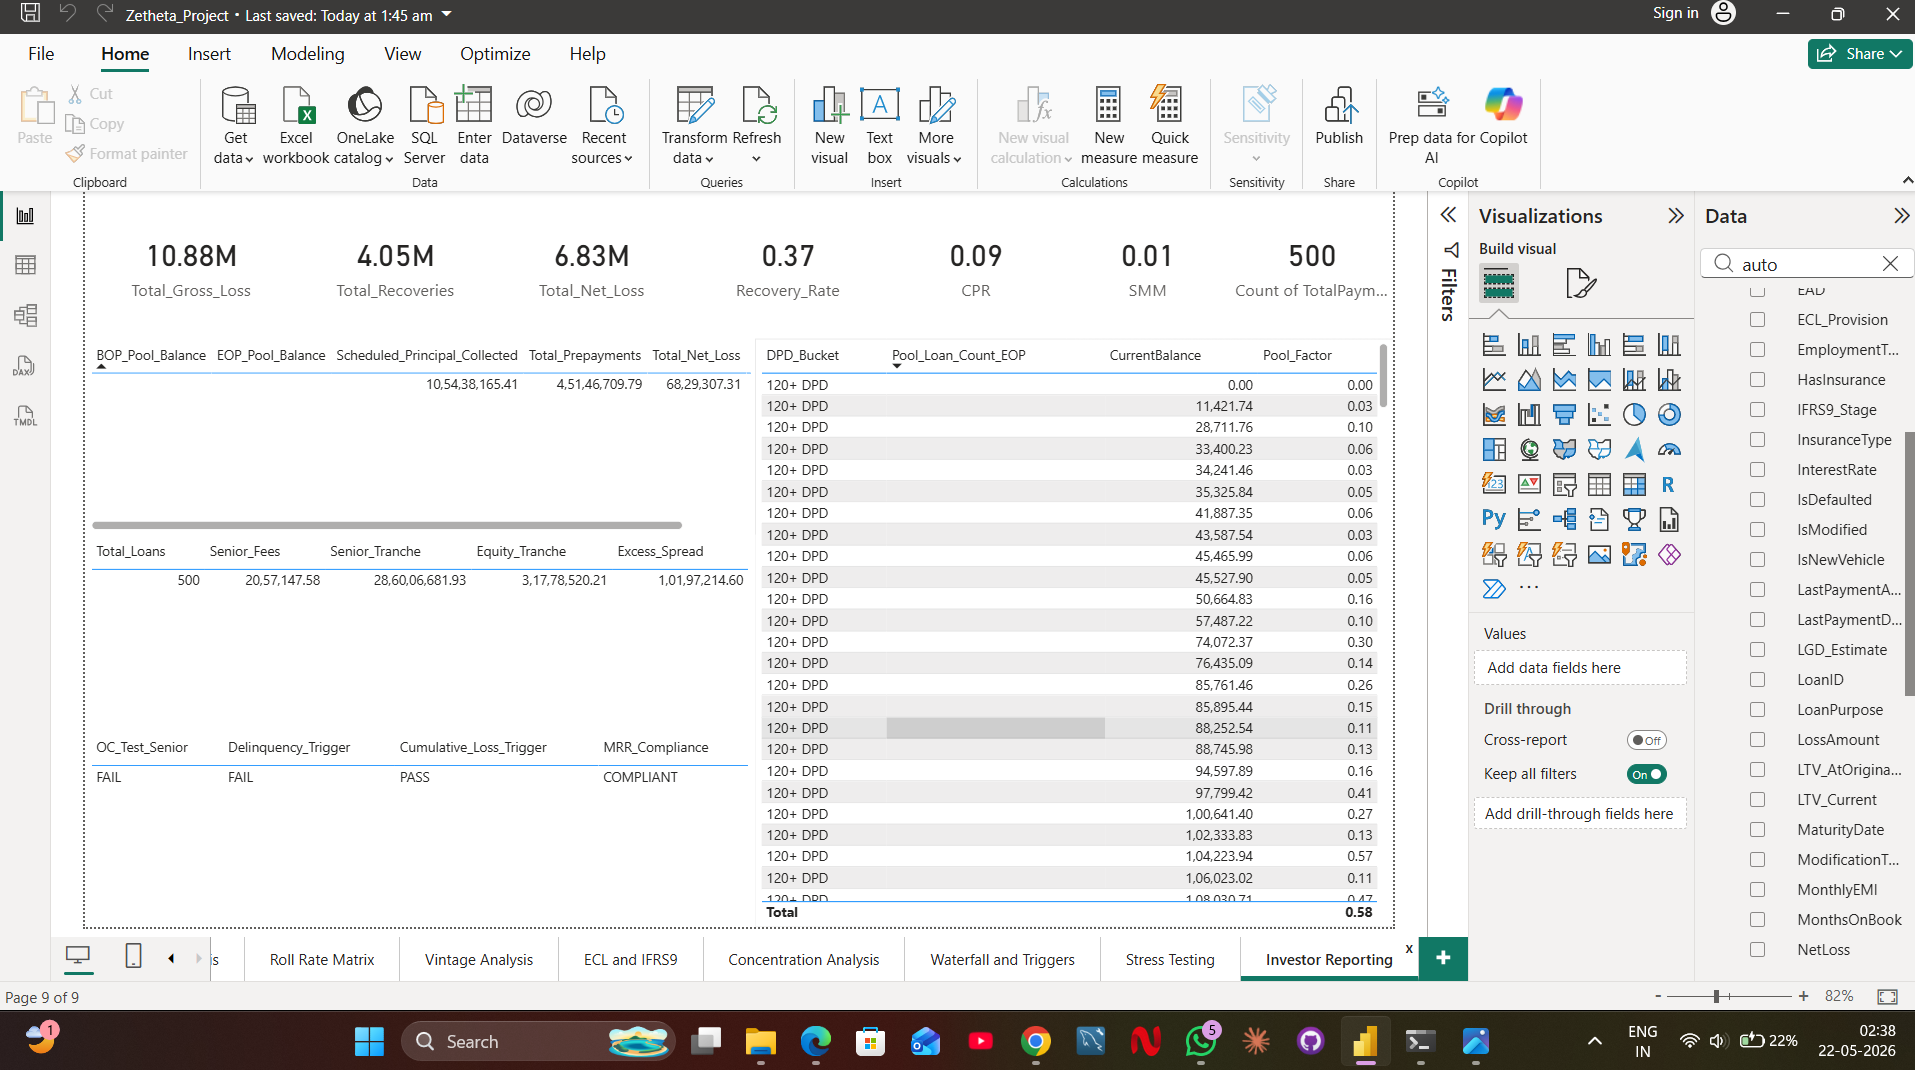

The dashboard page shown, as its layout file describes it:
{"tool":"powerbi","page":{"name":"Investor Reporting","canvas":[1280,720],"ordinal":8},"visuals":[{"type":"tableEx","fields":{"Values":["_Measures.BOP_Pool_Balance","_Measures.EOP_Pool_Balance","_Measures.Scheduled_Principal_Collected","_Measures.Total_Prepayments","_Measures.Total_Net_Loss","_Measures.Pool_Factor"]},"box":[0,144,656,192],"z":0},{"type":"tableEx","fields":{"Values":["dpd_snapshot_history.DPD_Bucket","_Measures.Pool_Loan_Count_EOP","auto_loan_scrutinization_data.CurrentBalance","_Measures.Pool_Factor"]},"box":[656,144,624,576],"z":1000},{"type":"tableEx","fields":{"Values":["_Measures.Total_Loans","_Measures.Senior_Fees","_Measures.Senior_Tranche","_Measures.Equity_Tranche","_Measures.Excess_Spread"]},"box":[0,336,656,192],"z":2000},{"type":"tableEx","fields":{"Values":["_Measures.OC_Test_Senior","_Measures.Delinquency_Trigger","_Measures.Cumulative_Loss_Trigger","_Measures.MRR_Compliance"]},"box":[0,528,656,192],"z":3000},{"type":"card","fields":{"Values":["_Measures.Total_Gross_Loss"]},"box":[0,0,208,144],"z":4000},{"type":"card","fields":{"Values":["_Measures.Total_Recoveries"]},"box":[208,0,192,144],"z":5000},{"type":"card","fields":{"Values":["_Measures.Total_Net_Loss"]},"box":[400,0,192,144],"z":6000},{"type":"card","fields":{"Values":["_Measures.Recovery_Rate"]},"box":[592,0,192,144],"z":7000},{"type":"card","fields":{"Values":["_Measures.CPR"]},"box":[784,0,176,144],"z":8000},{"type":"card","fields":{"Values":["_Measures.SMM"]},"box":[960,0,160,144],"z":9000},{"type":"card","fields":{"Values":["CountNonNull(auto_loan_scrutinization_data.TotalPaymentsDue)"]},"box":[1120,0,160,144],"z":10000}]}

Visuals, with their boxes on the page's 1280x720 design canvas (x1, y1, x2, y2). These are canvas units, not pixel positions in the 1915x1070 screenshot, which may show the page scaled, cropped or inside an application window:
tableEx - _Measures.BOP_Pool_Balance x _Measures.EOP_Pool_Balance: {"x1": 0, "y1": 144, "x2": 656, "y2": 336}
tableEx - dpd_snapshot_history.DPD_Bucket x _Measures.Pool_Loan_Count_EOP: {"x1": 656, "y1": 144, "x2": 1280, "y2": 720}
tableEx - _Measures.Total_Loans x _Measures.Senior_Fees: {"x1": 0, "y1": 336, "x2": 656, "y2": 528}
tableEx - _Measures.OC_Test_Senior x _Measures.Delinquency_Trigger: {"x1": 0, "y1": 528, "x2": 656, "y2": 720}
card - _Measures.Total_Gross_Loss: {"x1": 0, "y1": 0, "x2": 208, "y2": 144}
card - _Measures.Total_Recoveries: {"x1": 208, "y1": 0, "x2": 400, "y2": 144}
card - _Measures.Total_Net_Loss: {"x1": 400, "y1": 0, "x2": 592, "y2": 144}
card - _Measures.Recovery_Rate: {"x1": 592, "y1": 0, "x2": 784, "y2": 144}
card - _Measures.CPR: {"x1": 784, "y1": 0, "x2": 960, "y2": 144}
card - _Measures.SMM: {"x1": 960, "y1": 0, "x2": 1120, "y2": 144}
card - CountNonNull(auto_loan_scrutinization_data.TotalPaymentsDue): {"x1": 1120, "y1": 0, "x2": 1280, "y2": 144}
